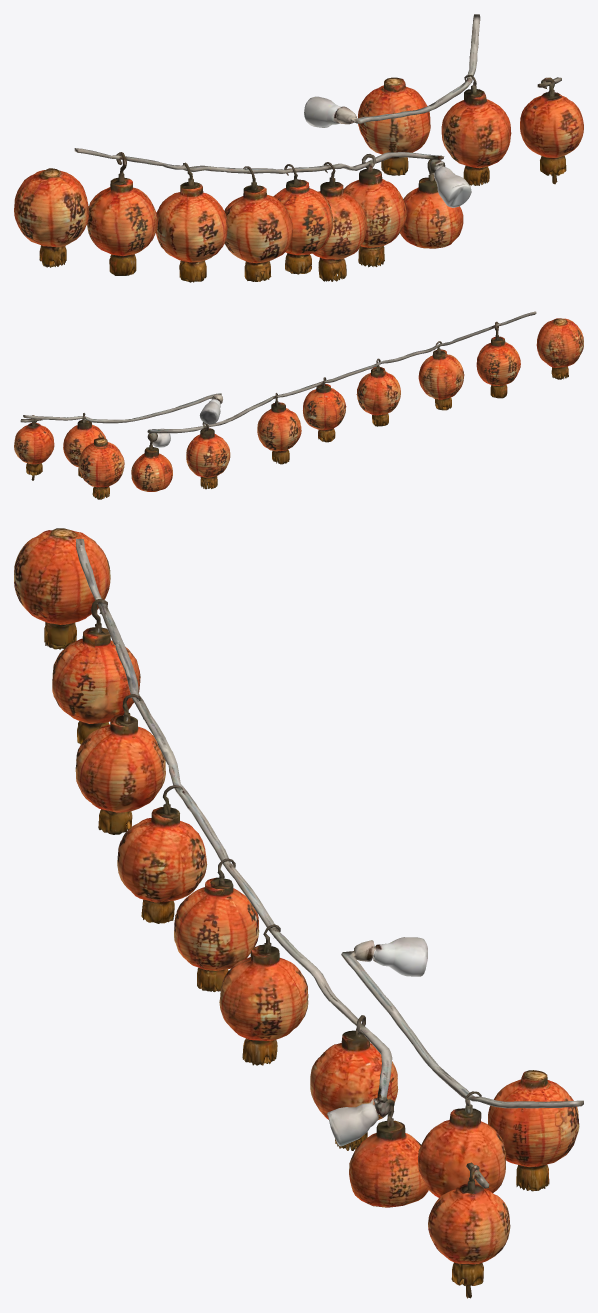
File: lantern-opt.glb
The picture shows the model from 3 angles, top to bottom: view 1: azimuth 30°, elevation 25°; view 2: azimuth 150°, elevation 25°; view 3: azimuth 270°, elevation 25°; orthographic projection. The views are drawn at different scales.
Visible parts, largest first — view 1: tripo_node_d565ea40-7b89-4642-8c86-a5416aee4448; view 2: tripo_node_d565ea40-7b89-4642-8c86-a5416aee4448; view 3: tripo_node_d565ea40-7b89-4642-8c86-a5416aee4448.
Boxes of the visible parts, x1,y1,x2,y2 form: tripo_node_d565ea40-7b89-4642-8c86-a5416aee4448: (14,14,583,282); tripo_node_d565ea40-7b89-4642-8c86-a5416aee4448: (14,311,583,499); tripo_node_d565ea40-7b89-4642-8c86-a5416aee4448: (14,528,583,1298).
Size of the model in its own units: 0.9796 by 0.3949 by 0.5403.
Materials: 1 (1 with a texture image).
